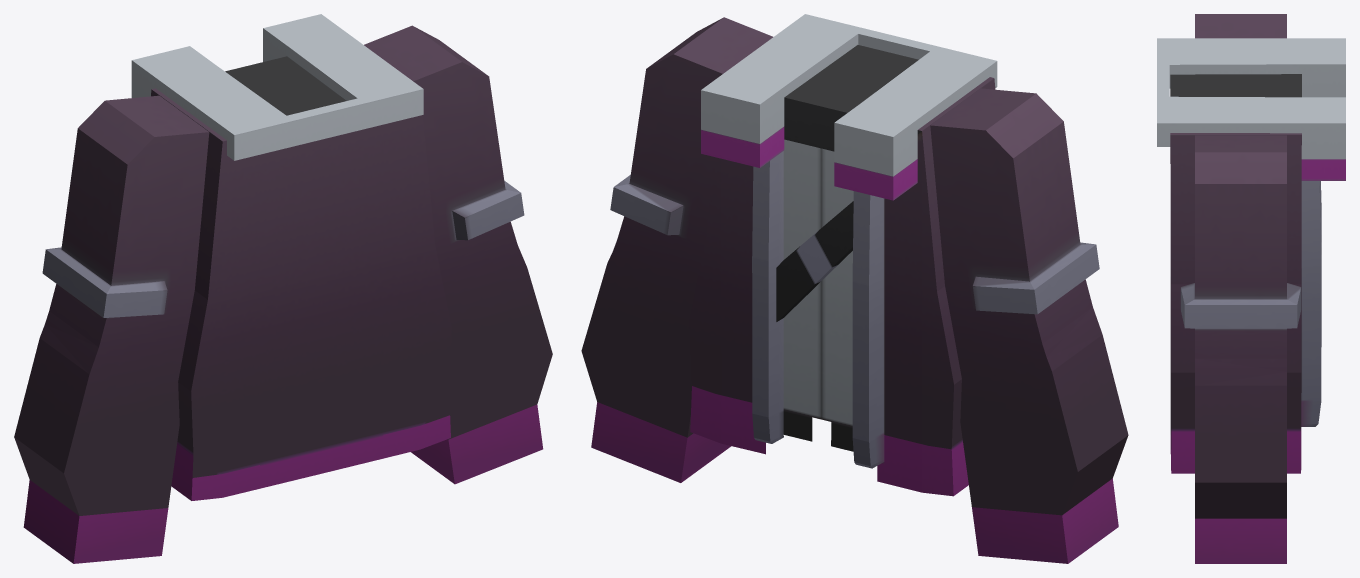
Rendered from B30_JACKET_yifu5_6.FBX.
3 views of the same model, side by side, from view 1: azimuth 30°, elevation 25°; view 2: azimuth 150°, elevation 25°; view 3: azimuth 270°, elevation 25° (orthographic). The views are drawn at different scales.
Parts seen in each view (by area): view 1: B30_JACKET_yifu5_6; view 2: B30_JACKET_yifu5_6; view 3: B30_JACKET_yifu5_6.
Boxes of the visible parts, left/top/right/bottom form: B30_JACKET_yifu5_6: left=14, top=14, right=552, bottom=563; B30_JACKET_yifu5_6: left=581, top=14, right=1128, bottom=563; B30_JACKET_yifu5_6: left=1157, top=14, right=1345, bottom=563.
Size of the model in its own units: 103 by 84.9 by 37.27.
